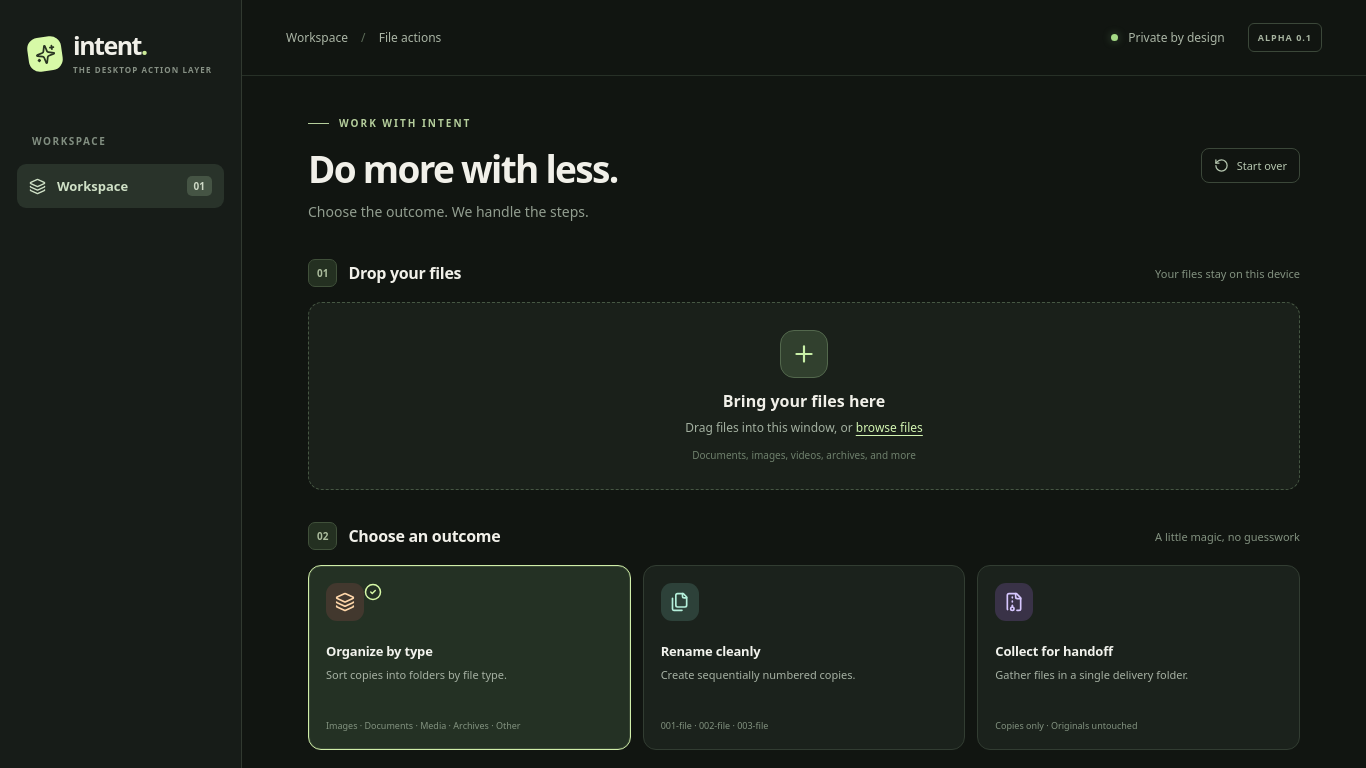
it: approved plan UI contract › shows a backend retry instruction only once
This screenshot has width=1366, height=768.
Click the button with aria-label "Choose files or drop them here". click: [804, 396]
box: left=308, top=302, right=1300, bottom=490
(page scrolled)
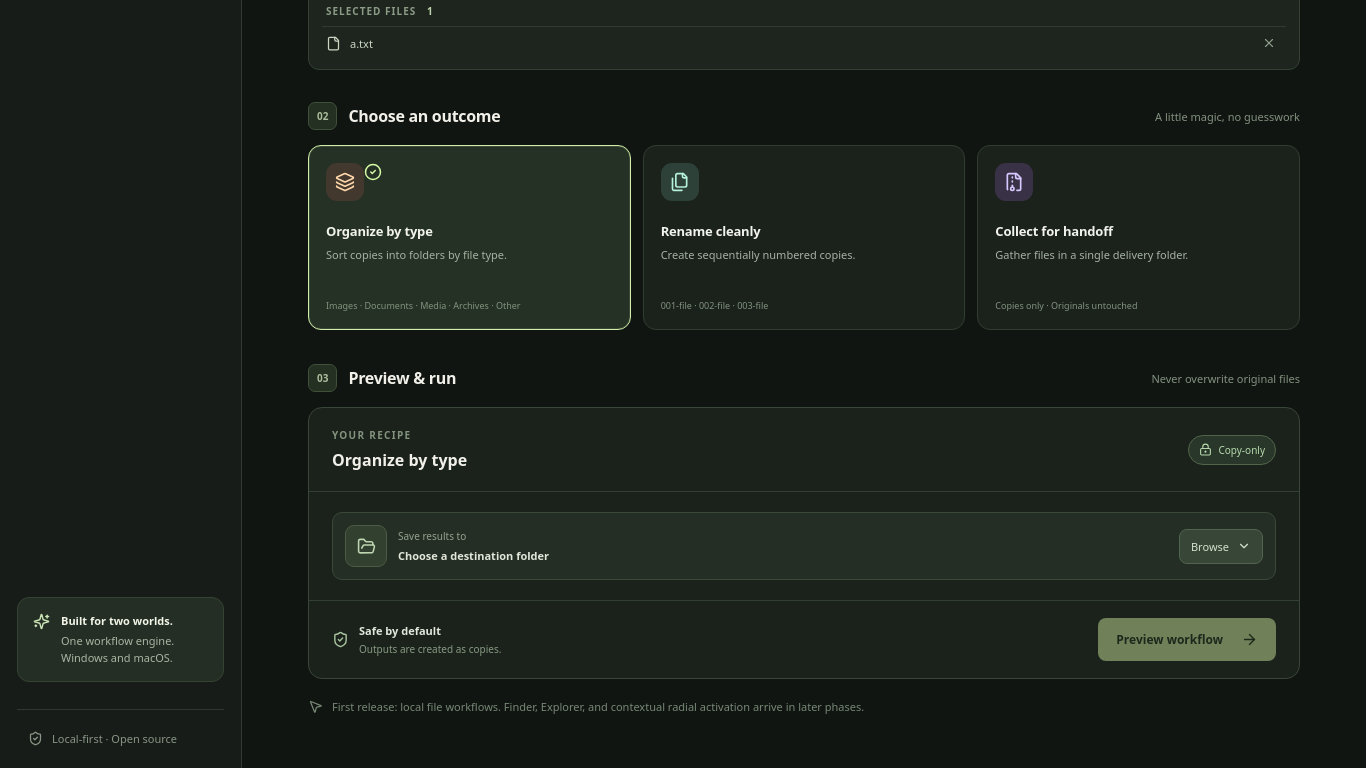
Click the button "Browse". click: [1221, 546]
box: left=1179, top=528, right=1263, bottom=564
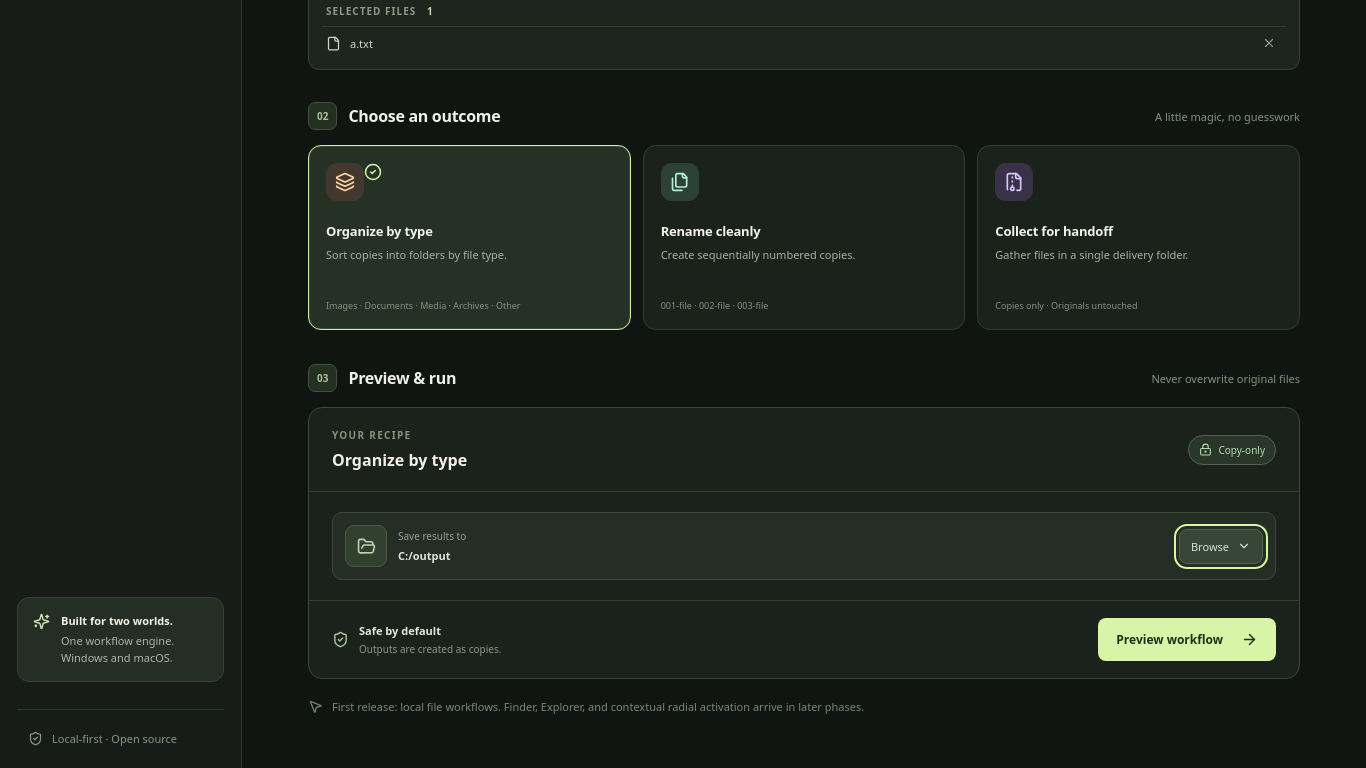
Click the button "Preview workflow". click: [1187, 640]
box: left=1098, top=618, right=1276, bottom=661
(page scrolled)
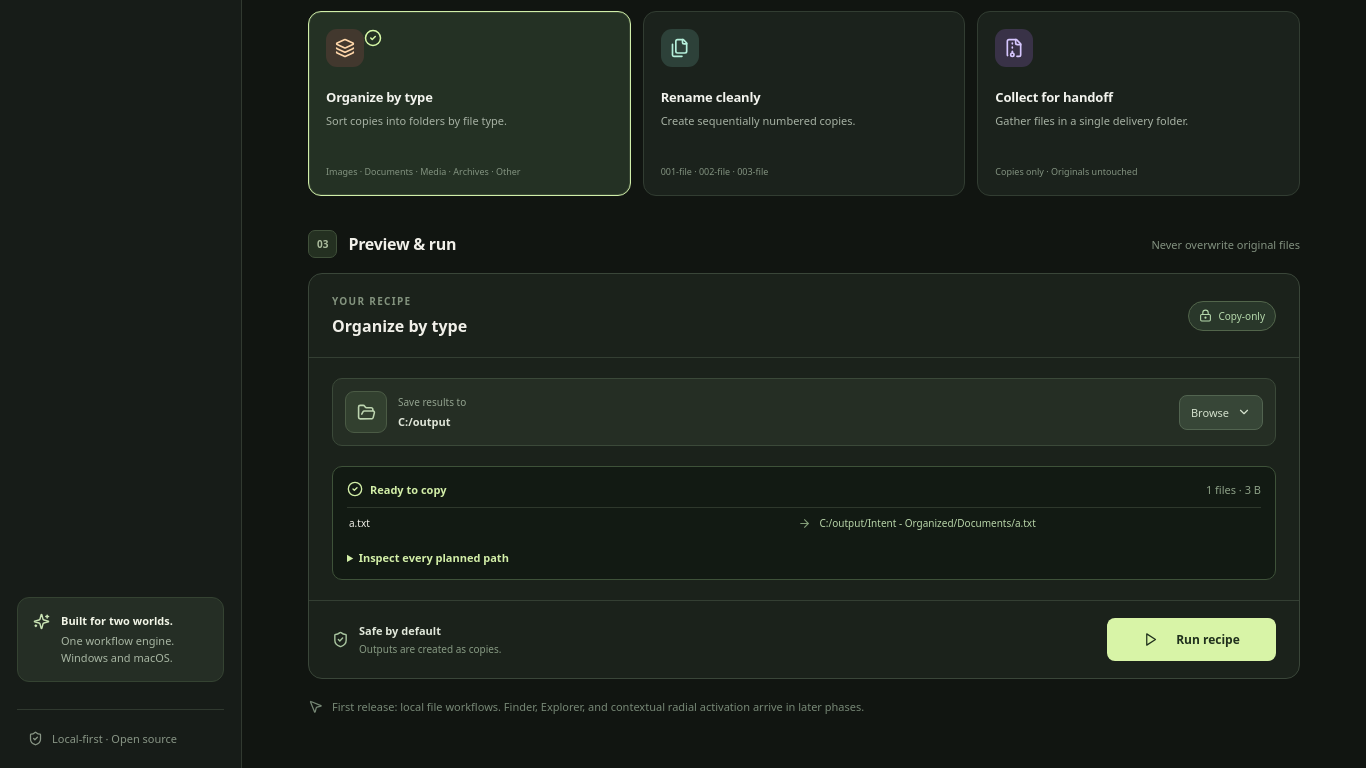
expect the button "Run recipe" is shown: met
Click the button "Run recipe". click: [1192, 640]
box: left=1107, top=618, right=1276, bottom=661
(page scrolled)
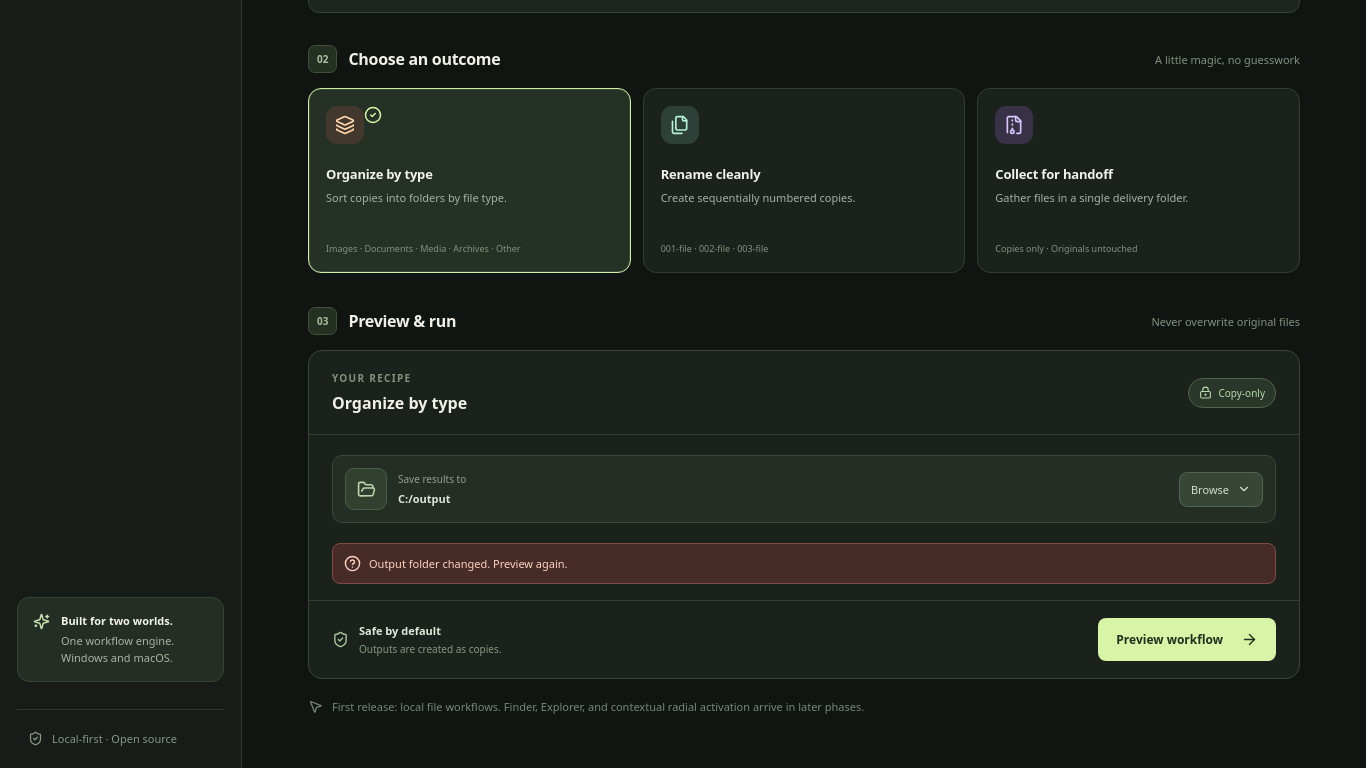
expect the text "Output folder changed. Preview again." is shown: met, box left=332, top=543, right=1276, bottom=584
